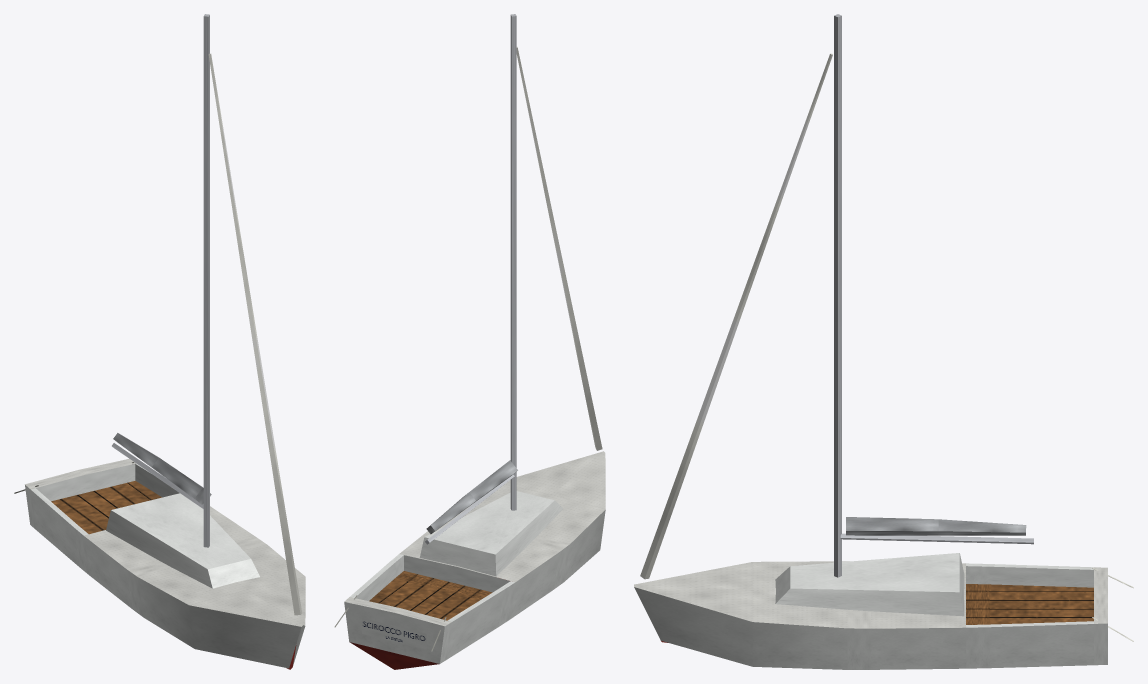
The model's file is SM_Morin_Barca_Vela9_CoprirandaGrigio_LOD2.fbx.
The picture shows the model from 3 angles, left to right: view 1: azimuth 30°, elevation 25°; view 2: azimuth 150°, elevation 25°; view 3: azimuth 270°, elevation 25°; orthographic projection. The views are drawn at different scales.
Parts seen in each view (by area): view 1: SM_Morin_Barca_Vela9_CoprirandaGrigio_LOD2; view 2: SM_Morin_Barca_Vela9_CoprirandaGrigio_LOD2; view 3: SM_Morin_Barca_Vela9_CoprirandaGrigio_LOD2.
Boxes of the visible parts, x1,y1,x2,y2 form: SM_Morin_Barca_Vela9_CoprirandaGrigio_LOD2: (14,14,305,669); SM_Morin_Barca_Vela9_CoprirandaGrigio_LOD2: (334,14,605,669); SM_Morin_Barca_Vela9_CoprirandaGrigio_LOD2: (634,14,1133,669).
Bounding box in the file's own units: 300 × 944 × 1340.
1 material, 1 textured.
